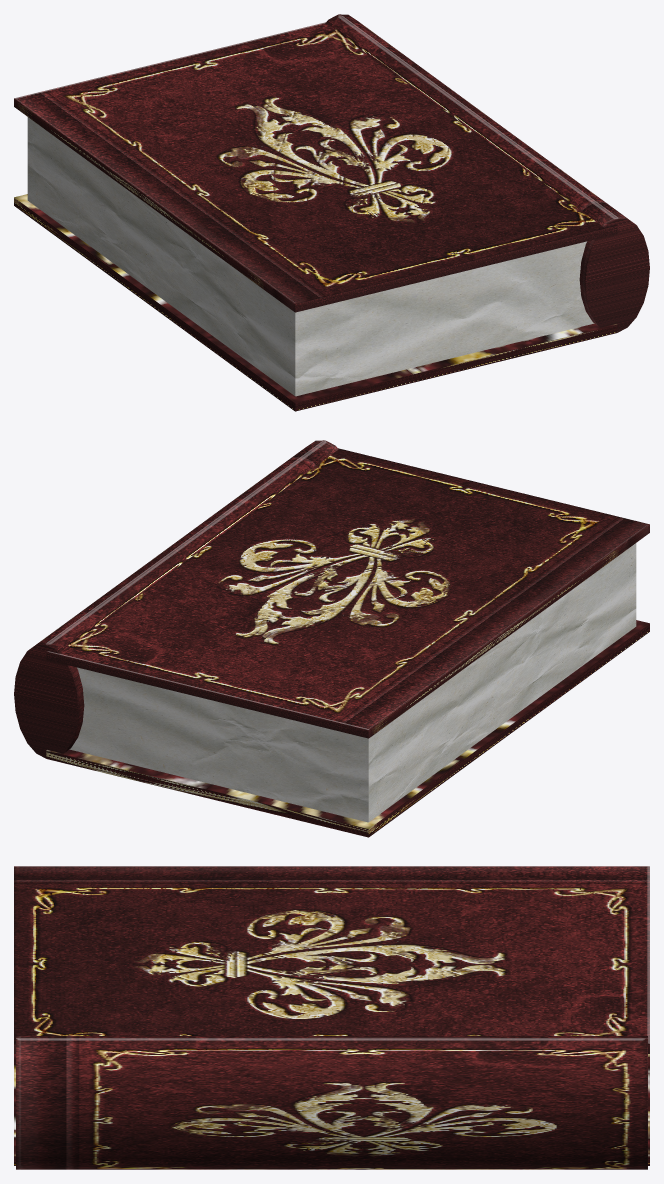
File: book.fbx
3 views of the same model, one above another, from view 1: azimuth 30°, elevation 25°; view 2: azimuth 150°, elevation 25°; view 3: azimuth 270°, elevation 25° (orthographic). The views are drawn at different scales.
Parts seen in each view (by area): view 1: pCube2, pCube1, pCylinder1, pCube5; view 2: pCube2, pCube1, pCylinder1, pCube5; view 3: pCube2, pCylinder1, pCube5.
Part boxes in pixels (x1=…): pCube2: x1=14, y1=22, x2=617, y2=312; pCube1: x1=27, y1=117, x2=594, y2=396; pCylinder1: x1=325, y1=14, x2=649, y2=332; pCube5: x1=14, y1=194, x2=617, y2=411; pCube2: x1=46, y1=448, x2=649, y2=738; pCube1: x1=69, y1=543, x2=636, y2=822; pCylinder1: x1=14, y1=440, x2=338, y2=758; pCube5: x1=46, y1=620, x2=649, y2=837; pCube2: x1=14, y1=866, x2=649, y2=1053; pCylinder1: x1=16, y1=1036, x2=647, y2=1169; pCube5: x1=14, y1=1054, x2=649, y2=1165.
Bounding box in the file's own units: 55.15 × 16.88 × 75.5.
2 materials, 2 textured.
